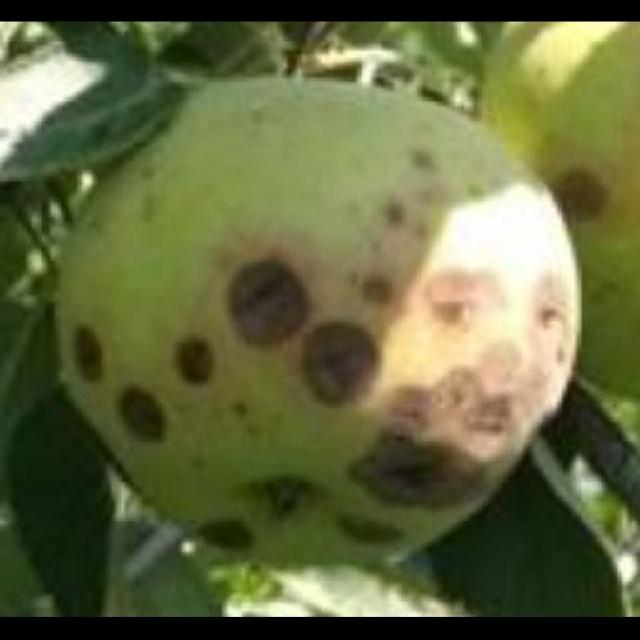Rotten Apple: (51, 69, 584, 574)
